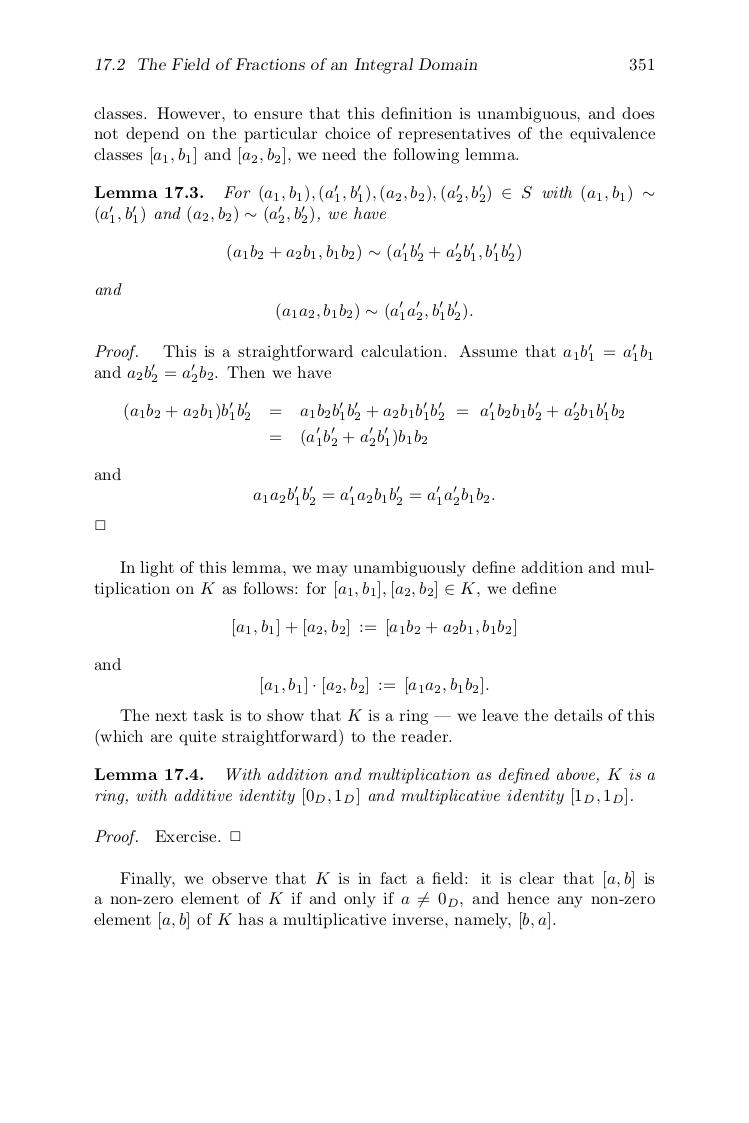formula: (124, 401, 623, 421), (227, 242, 520, 262), (233, 618, 515, 637), (253, 485, 494, 505), (261, 675, 488, 695), (276, 300, 472, 321), (270, 426, 426, 447)
